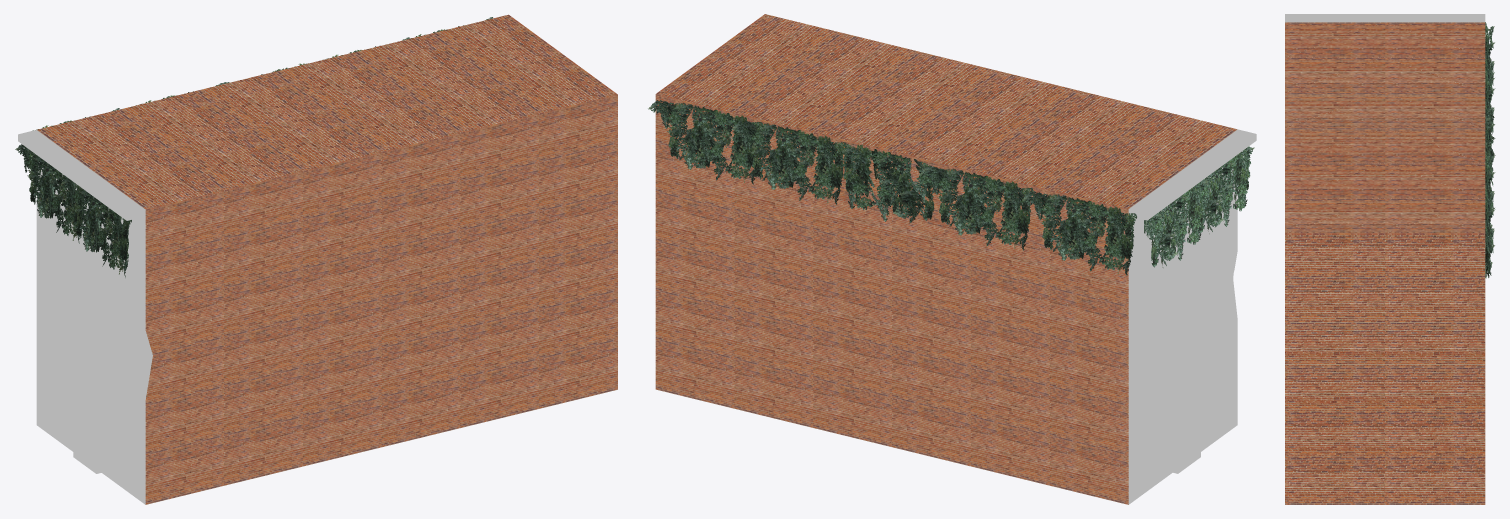
The model's file is House3_3.fbx.
3 renders of one model, left to right at view 1: azimuth 30°, elevation 25°; view 2: azimuth 150°, elevation 25°; view 3: azimuth 270°, elevation 25°, orthographic. The views are drawn at different scales.
Parts seen in each view (by area): view 1: house3_3; view 2: house3_3; view 3: house3_3.
Part boxes in pixels (box(x1,y1,x2,y2)): house3_3: box(15, 14, 617, 504); house3_3: box(648, 14, 1256, 504); house3_3: box(1285, 14, 1495, 504).
Size of the model in its own units: 1617 by 921 by 645.
